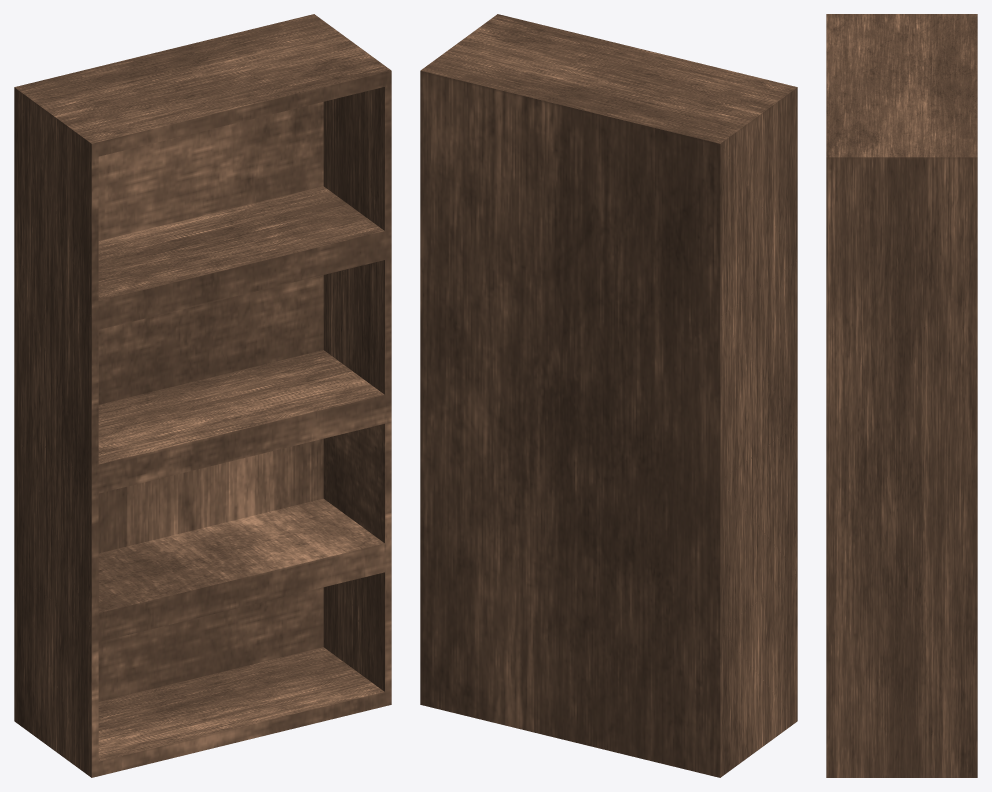
Rendered from cabinet.fbx.
3 renders of one model, left to right at view 1: azimuth 30°, elevation 25°; view 2: azimuth 150°, elevation 25°; view 3: azimuth 270°, elevation 25°, orthographic. The views are drawn at different scales.
Visible parts, largest first — view 1: Bookshelf; view 2: Bookshelf; view 3: Bookshelf.
Part boxes in pixels (<box>): Bookshelf: <box>14,14,391,777</box>; Bookshelf: <box>420,14,797,777</box>; Bookshelf: <box>826,14,977,777</box>.
Size of the model in its own units: 74.56 by 151 by 33.33.
1 material, 1 textured.
